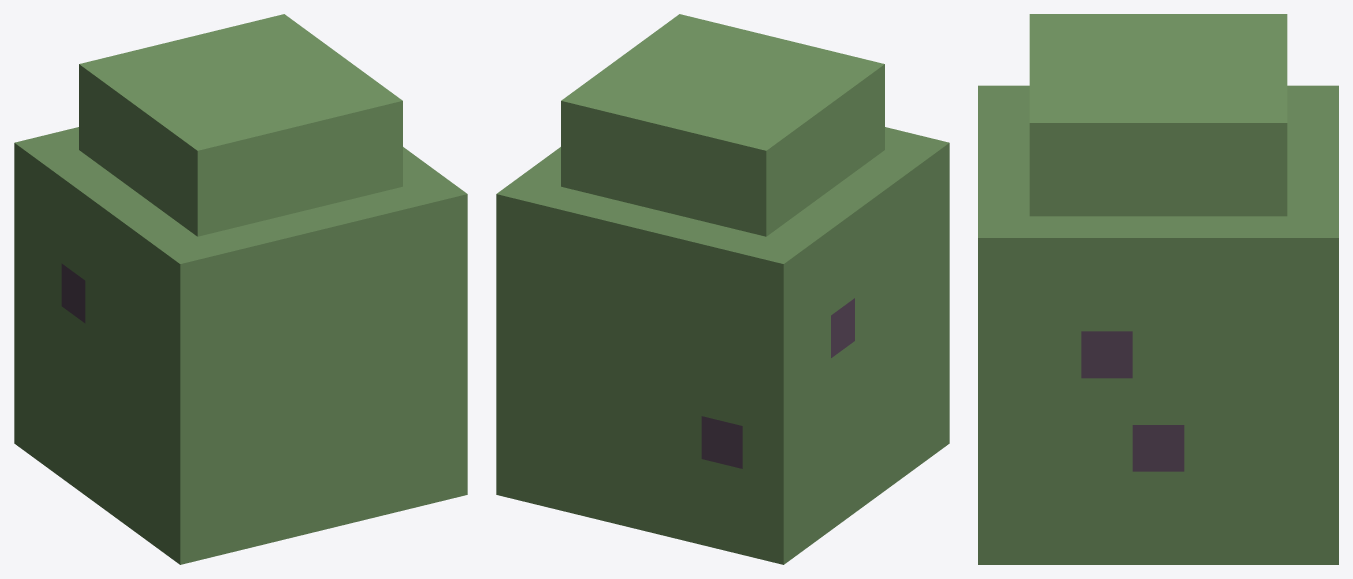
File: grosella_negra_02.glb
3 renders of one model, left to right at view 1: azimuth 30°, elevation 25°; view 2: azimuth 150°, elevation 25°; view 3: azimuth 270°, elevation 25°, orthographic. The views are drawn at different scales.
Visible parts, largest first — view 1: grosella_negra_02; view 2: grosella_negra_02; view 3: grosella_negra_02.
Part boxes in pixels (x1=…): grosella_negra_02: x1=14, y1=14, x2=467, y2=564; grosella_negra_02: x1=496, y1=14, x2=949, y2=564; grosella_negra_02: x1=978, y1=14, x2=1338, y2=564.
Size of the model in its own units: 0.7 by 0.9 by 0.7.
